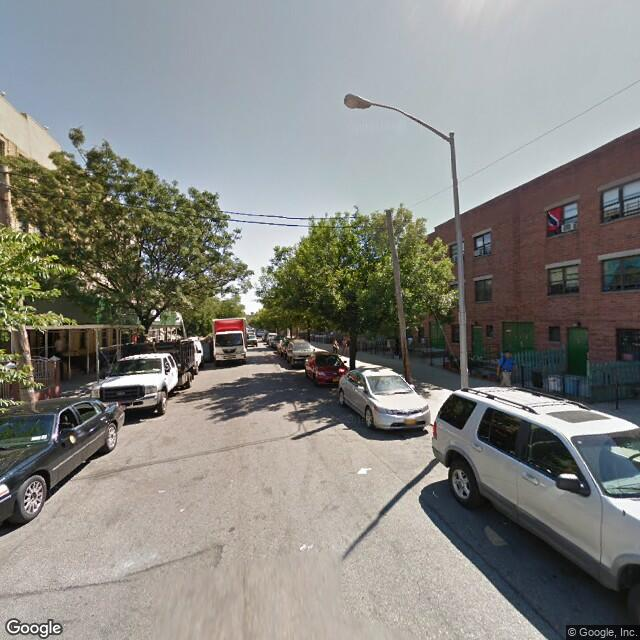litter: (300, 541, 318, 550), (355, 465, 371, 475)
